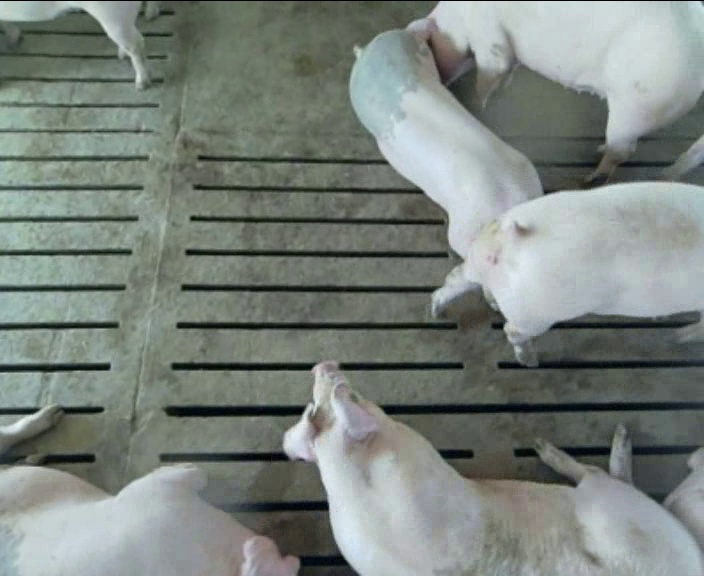pig: (284, 361, 703, 573), (406, 2, 703, 183), (433, 182, 703, 365)
